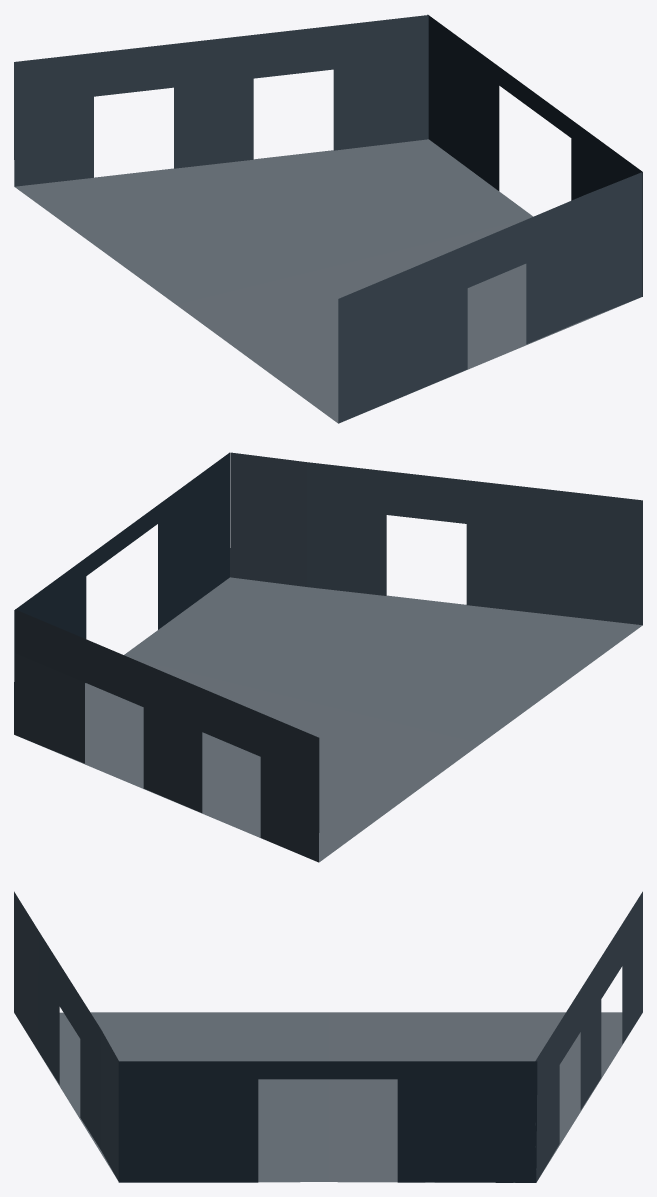
The model's file is Hall.fbx.
The picture shows the model from 3 angles, top to bottom: view 1: azimuth 30°, elevation 25°; view 2: azimuth 150°, elevation 25°; view 3: azimuth 270°, elevation 25°; orthographic projection. The views are drawn at different scales.
Parts seen in each view (by area): view 1: Plane.001; view 2: Plane.001; view 3: Plane.001.
Boxes of the visible parts, bbox=[...] form: Plane.001: bbox=[14, 14, 642, 423]; Plane.001: bbox=[14, 452, 642, 862]; Plane.001: bbox=[14, 891, 642, 1182].
Size of the model in its own units: 1205 by 400 by 1879.
